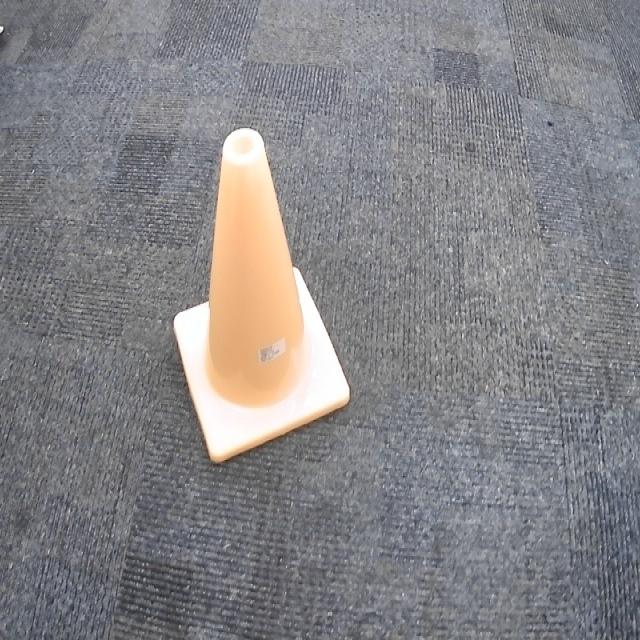cone: (164, 119, 357, 488)
